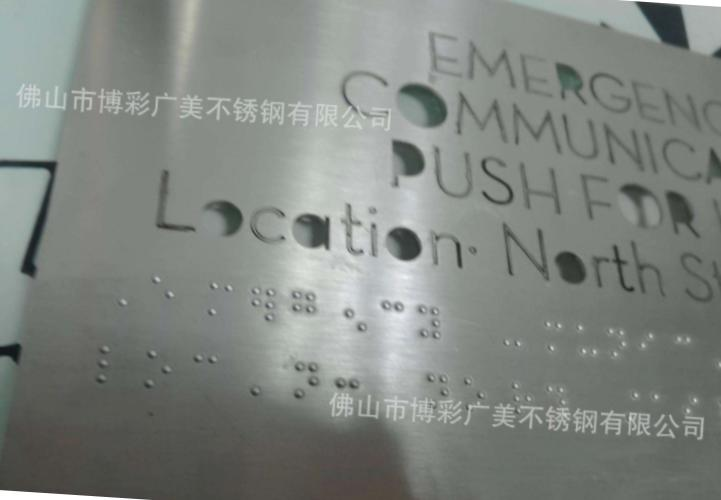Braille: (95, 342, 121, 385), (146, 348, 173, 389), (335, 364, 361, 404), (344, 296, 369, 333), (292, 291, 317, 328), (295, 362, 319, 400), (193, 354, 218, 390), (381, 301, 405, 338), (652, 392, 676, 429), (417, 305, 442, 340), (545, 384, 568, 422), (252, 287, 276, 323), (209, 281, 233, 317), (462, 375, 486, 411), (511, 381, 535, 417), (426, 371, 449, 408), (577, 322, 598, 359), (616, 388, 638, 422), (249, 364, 270, 397), (685, 395, 704, 431), (152, 276, 173, 308), (109, 275, 128, 310), (607, 325, 627, 358), (544, 320, 563, 351), (503, 319, 522, 349), (639, 329, 657, 360), (675, 336, 692, 362)
